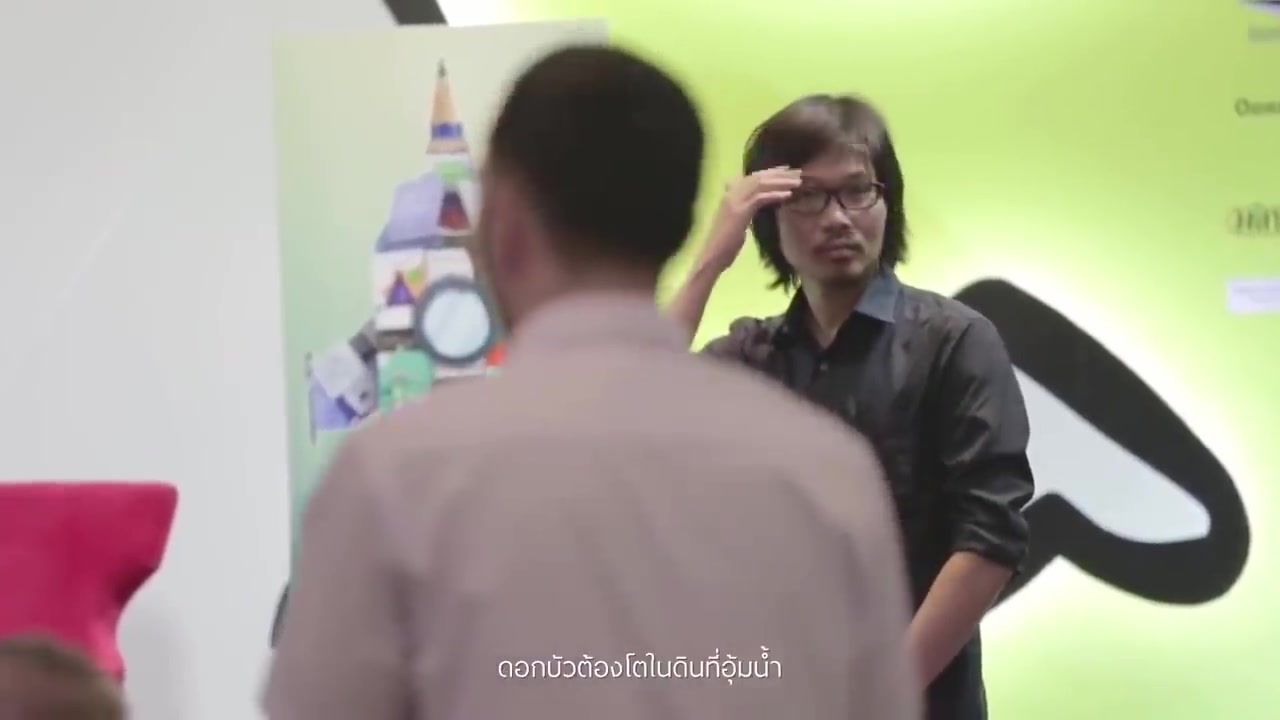text-label: (495, 641, 786, 688)
